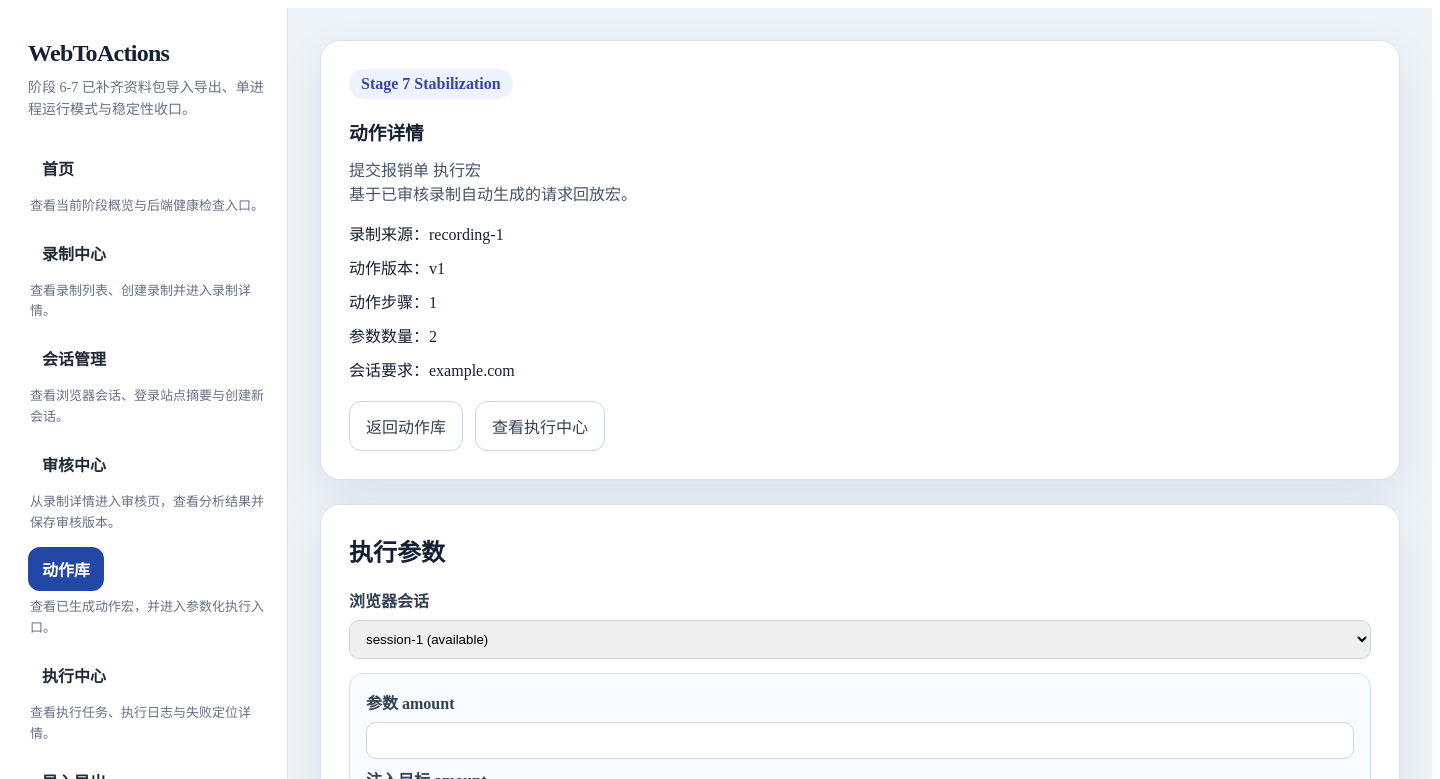
it: App › shows backend execution start detail instead of a generic http error
Expected: the heading "动作详情" is shown, [349, 123, 424, 144]
Select "session-1 (available)" in the dropdown labelled "浏览器会话" at (860, 639), box [349, 620, 1371, 659]
Type "208" into the field labelled "参数 amount" at (860, 740), box [366, 722, 1354, 759]
(page scrolled)
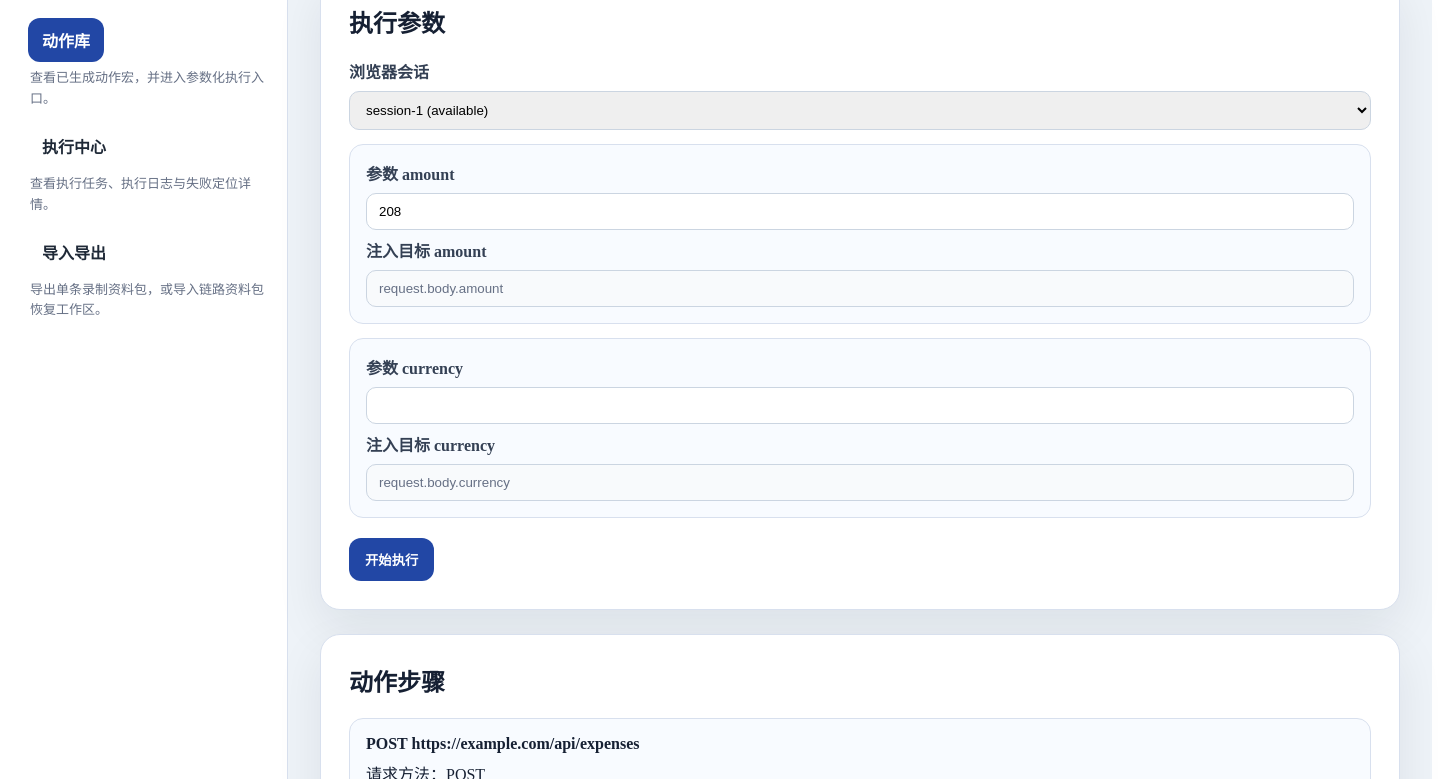
Type "USD" into the field labelled "参数 currency" at (860, 405), box [366, 387, 1354, 424]
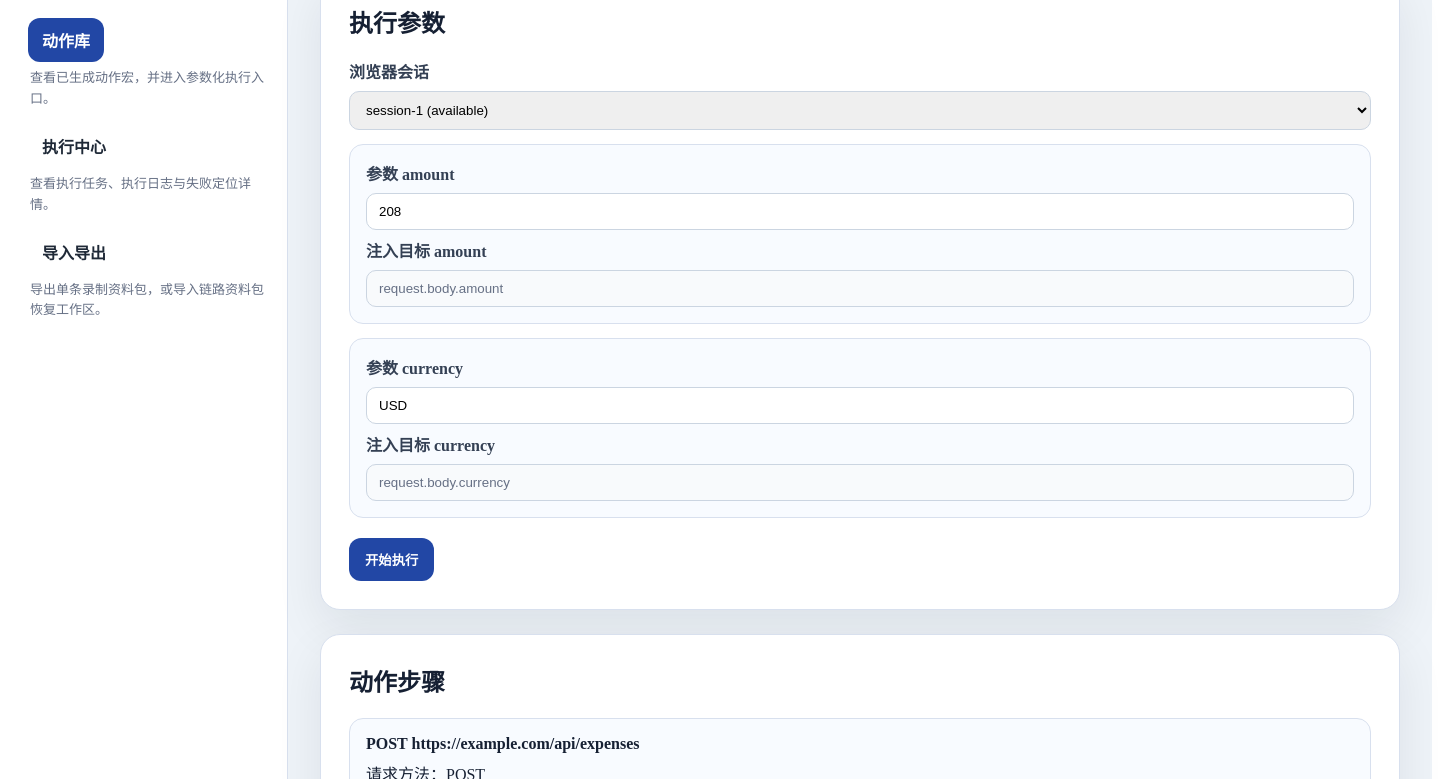
Click the button "开始执行" at (392, 559), box [349, 538, 434, 581]
(page scrolled)
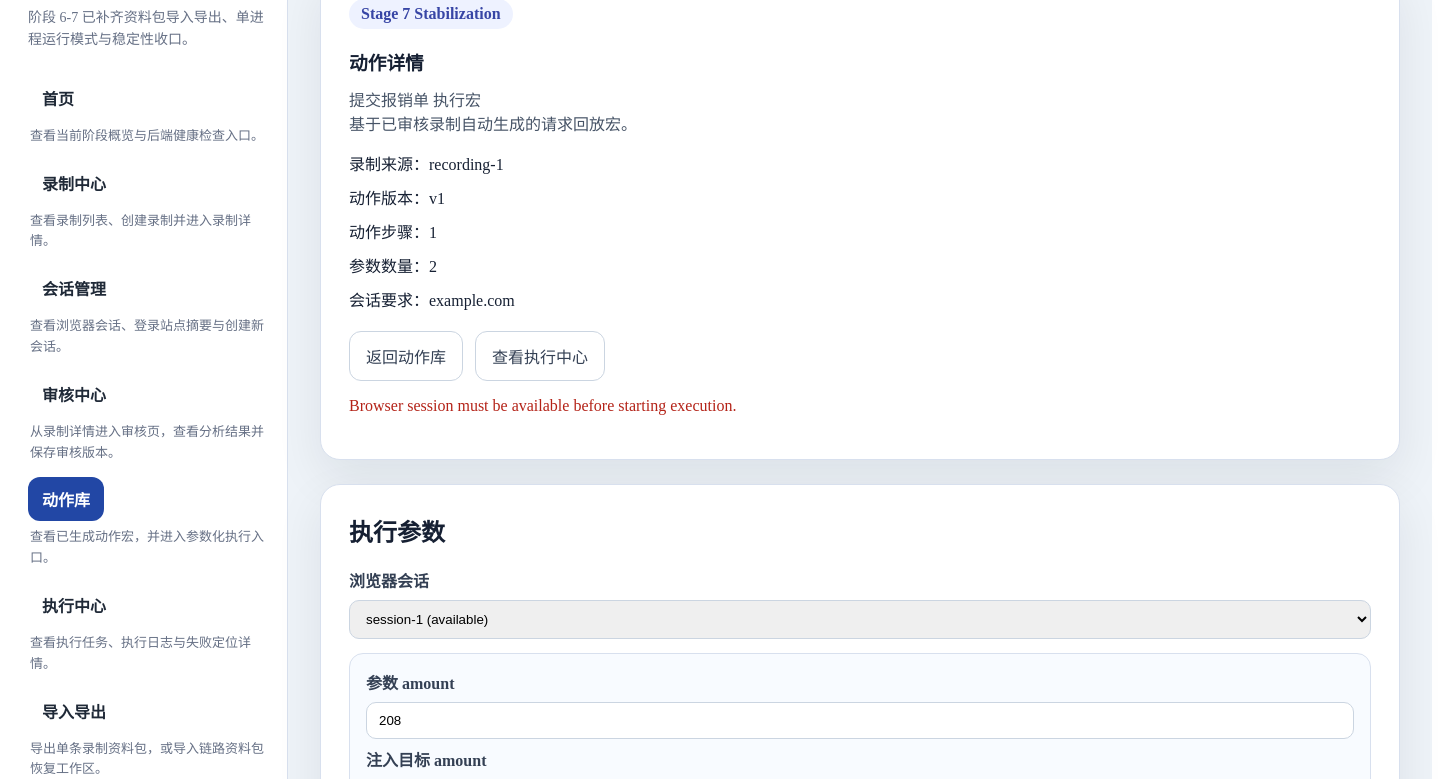
Expected: the text "Browser session must be available before starting execution." is shown, [349, 397, 736, 414]
